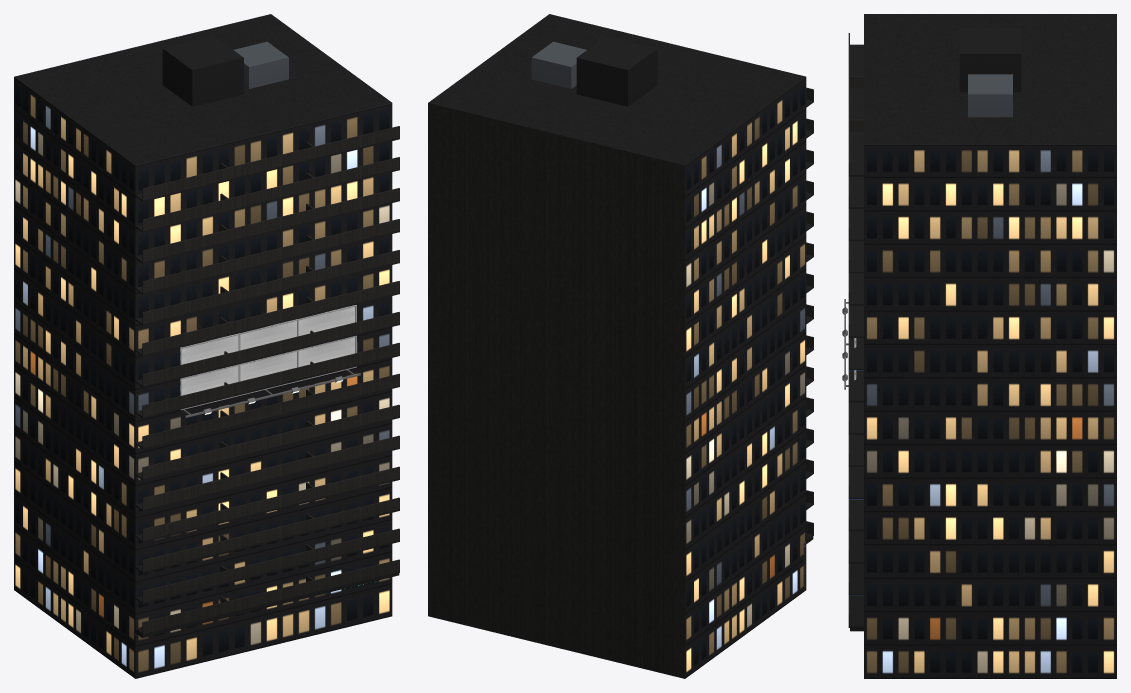
File: pano.glb
3 views of the same model, side by side, from view 1: azimuth 30°, elevation 25°; view 2: azimuth 150°, elevation 25°; view 3: azimuth 270°, elevation 25° (orthographic). The views are drawn at different scales.
Parts seen in each view (by area): view 1: PANO_HOST, PANO_FACE, PANO; view 2: PANO_HOST; view 3: PANO_HOST.
Boxes of the visible parts, x1=… form: PANO_HOST: x1=14, y1=14, x2=399, y2=678; PANO_FACE: x1=180, y1=305, x2=355, y2=395; PANO: x1=180, y1=305, x2=360, y2=417; PANO_HOST: x1=428, y1=14, x2=813, y2=678; PANO_HOST: x1=848, y1=14, x2=1116, y2=678.
Bounding box in the file's own units: 22 × 45 × 19.57.
Materials: 7 (1 with a texture image).
